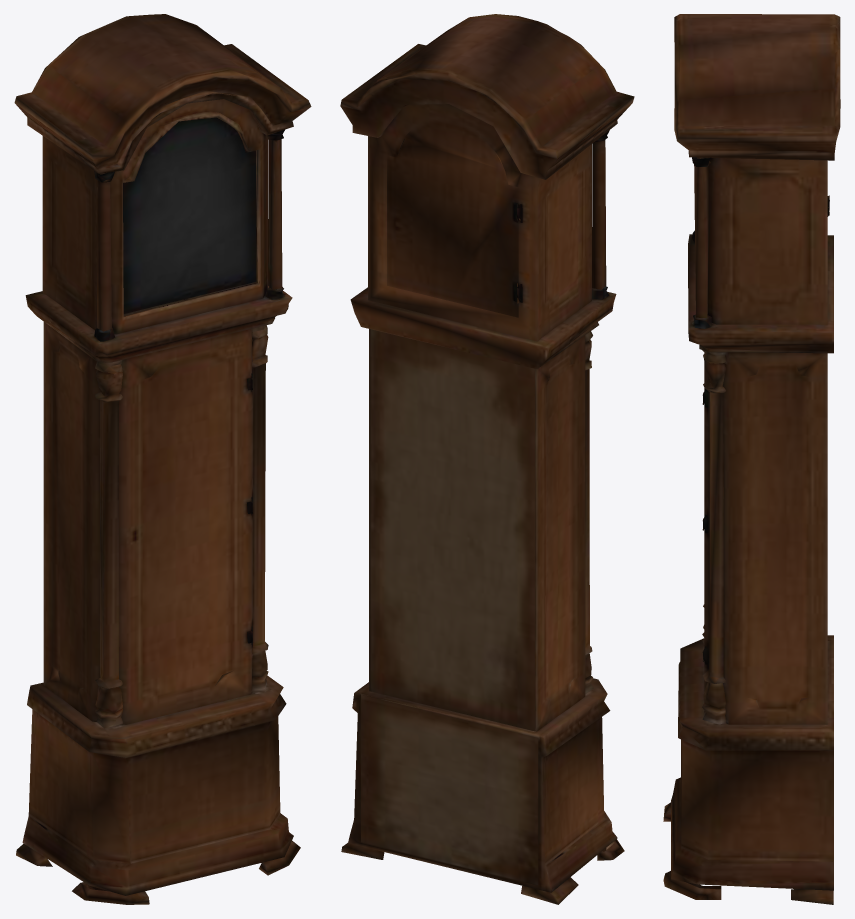
The model's file is gclock.glb.
3 views of the same model, side by side, from view 1: azimuth 30°, elevation 25°; view 2: azimuth 150°, elevation 25°; view 3: azimuth 270°, elevation 25° (orthographic). The views are drawn at different scales.
Parts seen in each view (by area): view 1: lo; view 2: lo; view 3: lo.
Part boxes in pixels (left/top/right/bottom): lo: left=14, top=14, right=311, bottom=904; lo: left=340, top=14, right=634, bottom=904; lo: left=663, top=14, right=840, bottom=904.
Size of the model in its own units: 0.6173 by 2.19 by 0.4262.
Materials: 1 (1 with a texture image).
